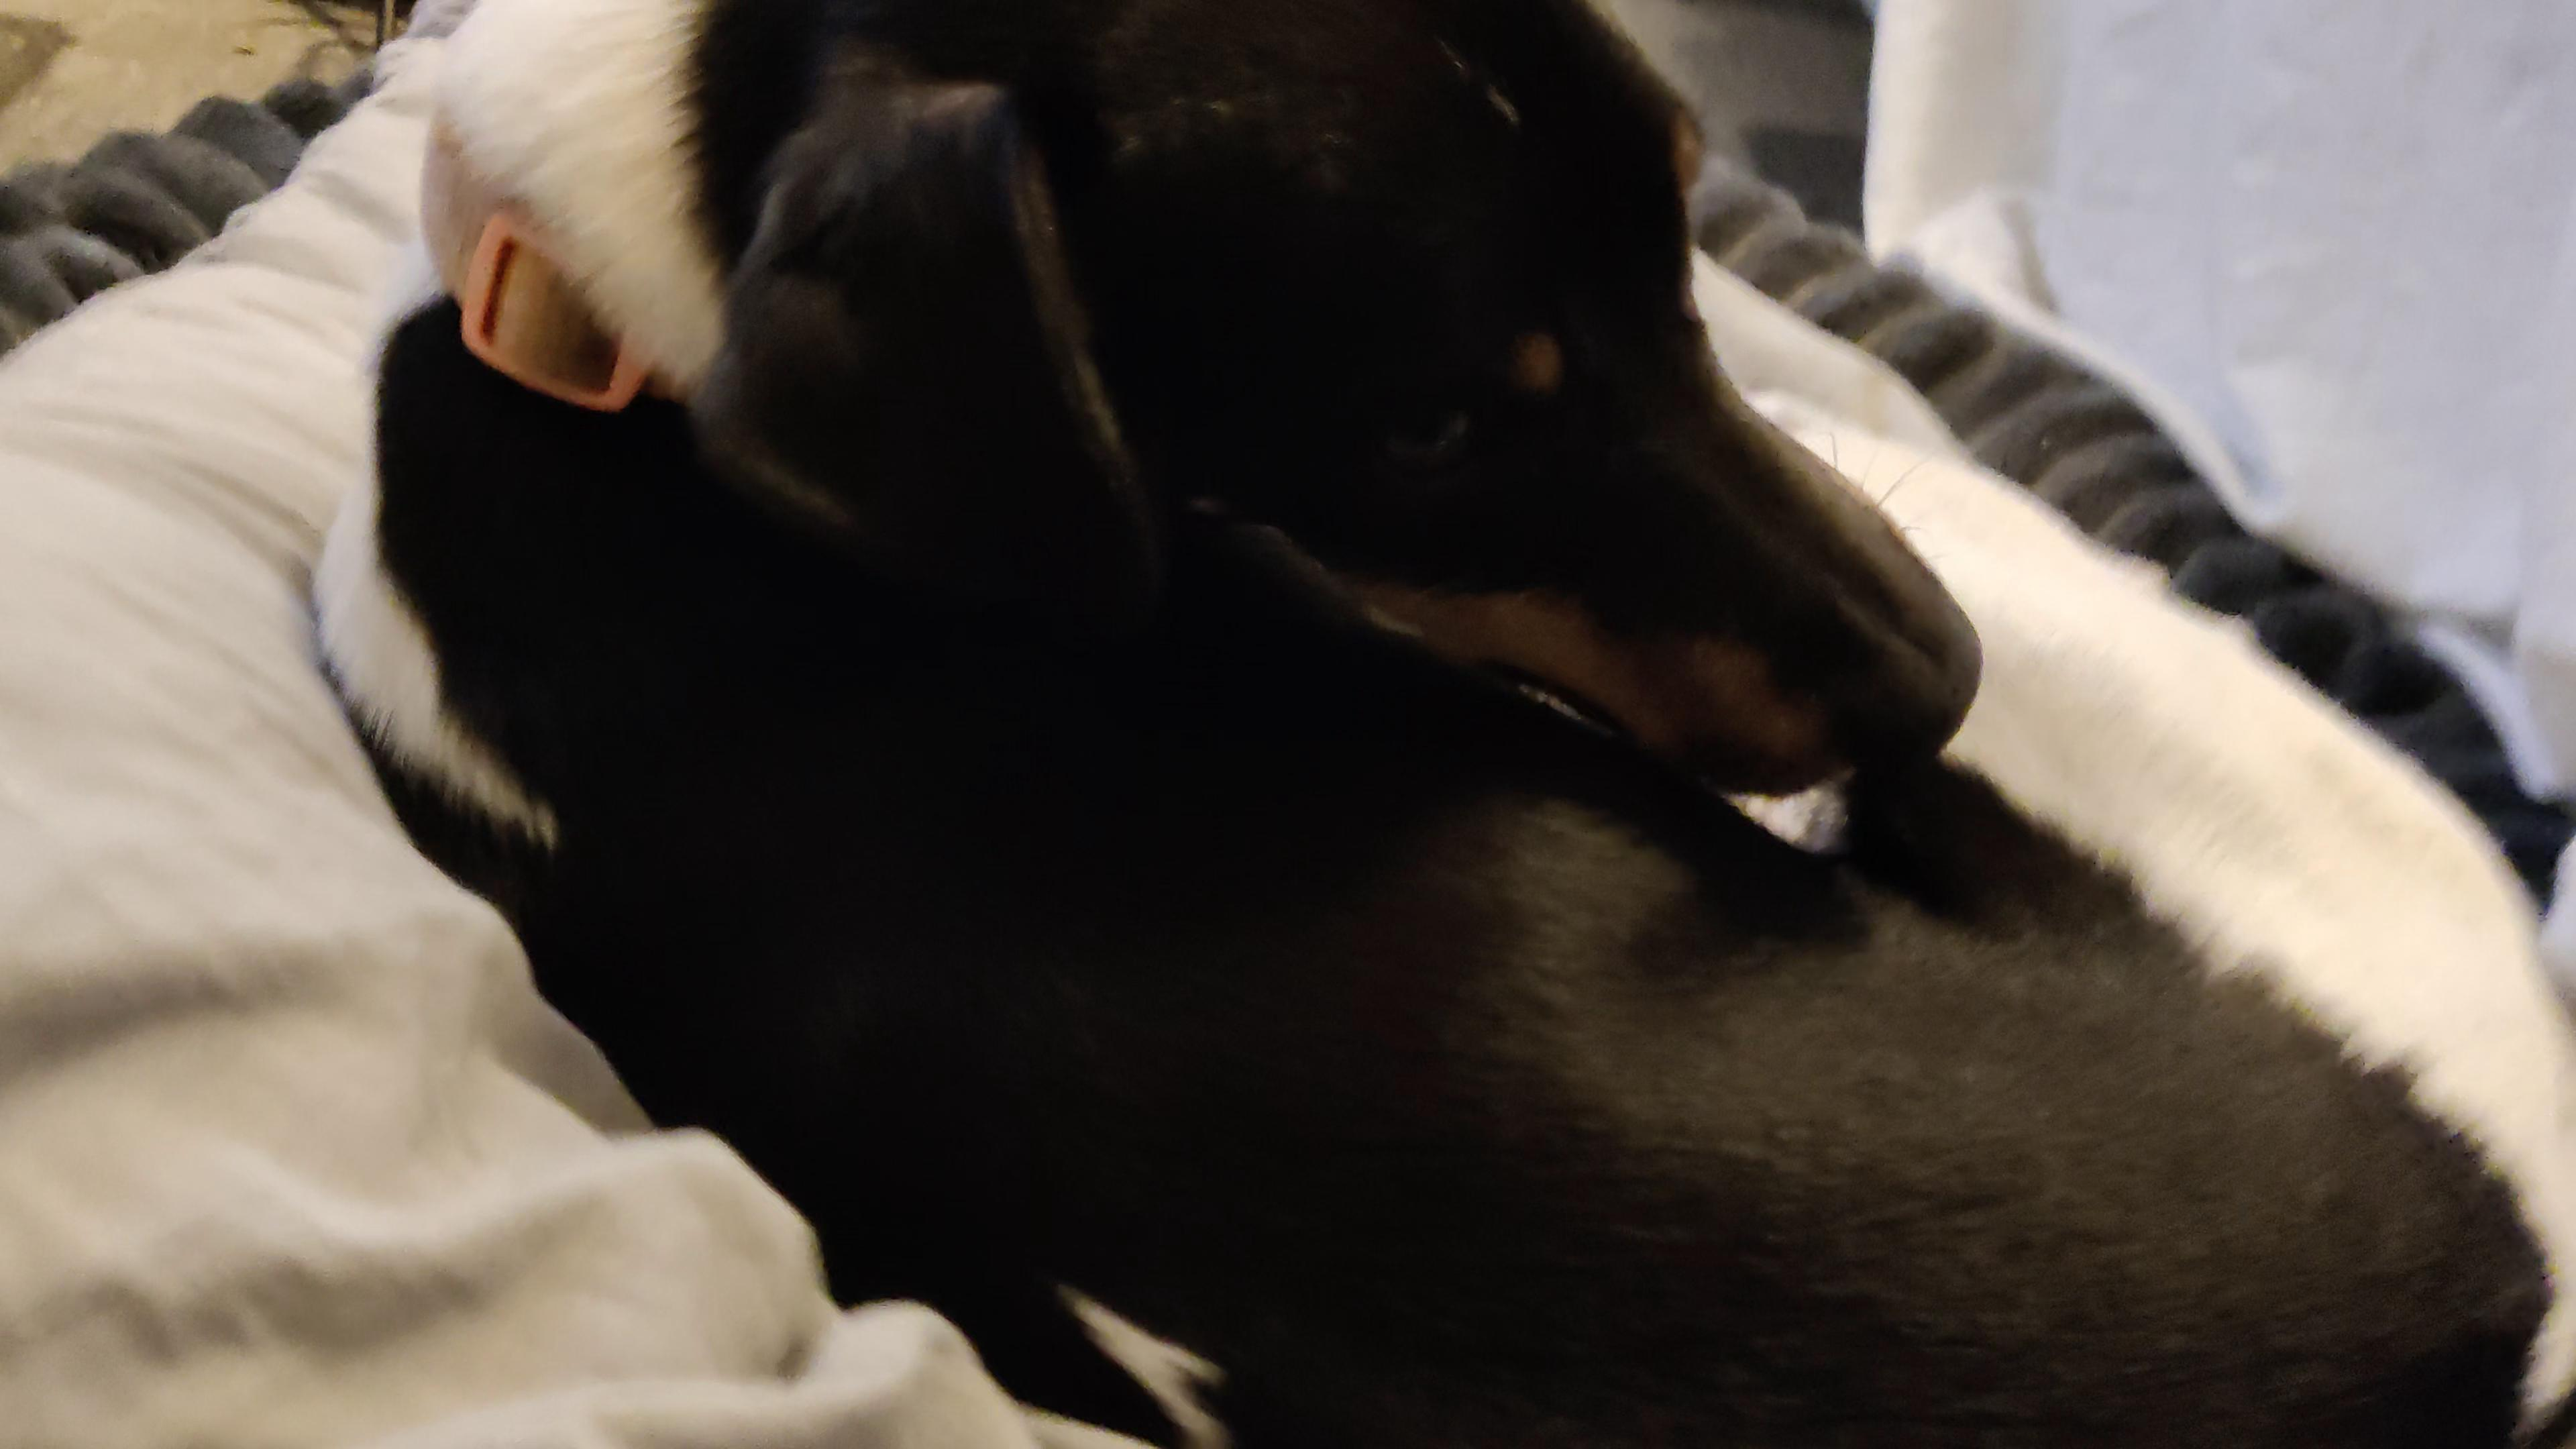Dog: (303, 0, 2576, 1449)
